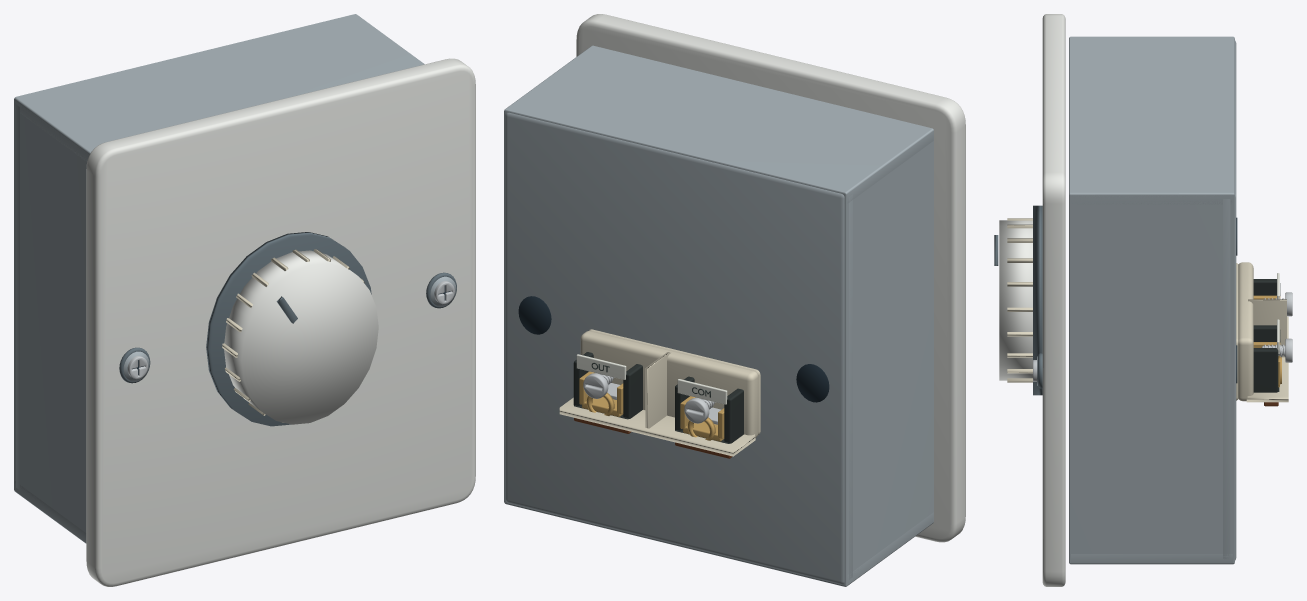
Rendered from dimmer_rotary.glb.
The picture shows the model from 3 angles, left to right: view 1: azimuth 30°, elevation 25°; view 2: azimuth 150°, elevation 25°; view 3: azimuth 270°, elevation 25°; orthographic projection. The views are drawn at different scales.
Visible parts, largest first — view 1: part:cover, part:body · Original 2a8198d3, part:actuator, motion:rotary · Original 5a609f27, detail:faceplate-fixing · Detail zinc plated fixing, part:cover · Original 0905ee26; view 2: part:body · Original 2a8198d3, part:cover, part:terminals · Original 5a609f27, part:body · Original a463fd81, detail:terminal-clamp:OUT · Detail moulded engineering polym, detail:terminal-clamp:COM · Detail moulded engineering polym, detail:terminal-clamp:OUT · Detail machined brass, detail:terminal-clamp:COM · Detail machined brass, Moulded terminal legend pad, Moulded terminal legend pad.001, detail:terminal-clamp:COM · Detail zinc plated fixing, detail:terminal-clamp:OUT · Detail zinc plated fixing; view 3: part:body · Original 2a8198d3, part:cover, part:actuator, part:terminals · Original 5a609f27, detail:terminal-clamp:OUT · Detail moulded engineering polym, motion:rotary · Original 5a609f27, detail:terminal-clamp:COM · Detail moulded engineering polym.
Part boxes in pixels (<box>): part:cover: <box>86,58,475,586</box>; part:body · Original 2a8198d3: <box>14,14,424,543</box>; part:actuator: <box>206,232,378,426</box>; motion:rotary · Original 5a609f27: <box>222,249,364,422</box>; detail:faceplate-fixing · Detail zinc plated fixing: <box>127,281,454,378</box>; part:cover · Original 0905ee26: <box>119,272,456,383</box>; part:body · Original 2a8198d3: <box>504,45,933,586</box>; part:cover: <box>576,14,965,542</box>; part:terminals · Original 5a609f27: <box>559,329,760,456</box>; part:body · Original a463fd81: <box>518,296,829,402</box>; detail:terminal-clamp:OUT · Detail moulded engineering polym: <box>573,352,642,419</box>; detail:terminal-clamp:COM · Detail moulded engineering polym: <box>675,376,743,443</box>; detail:terminal-clamp:OUT · Detail machined brass: <box>579,371,623,416</box>; detail:terminal-clamp:COM · Detail machined brass: <box>680,396,724,441</box>; Moulded terminal legend pad: <box>677,379,727,404</box>; Moulded terminal legend pad.001: <box>576,354,626,379</box>; detail:terminal-clamp:COM · Detail zinc plated fixing: <box>684,397,721,424</box>; detail:terminal-clamp:OUT · Detail zinc plated fixing: <box>583,373,620,399</box>; part:body · Original 2a8198d3: <box>1069,36,1236,564</box>; part:cover: <box>1042,14,1065,586</box>; part:actuator: <box>999,205,1042,395</box>; part:terminals · Original 5a609f27: <box>1236,262,1288,402</box>; detail:terminal-clamp:OUT · Detail moulded engineering polym: <box>1253,325,1279,392</box>; motion:rotary · Original 5a609f27: <box>1007,218,1032,382</box>; detail:terminal-clamp:COM · Detail moulded engineering polym: <box>1253,279,1276,295</box>.
Bounding box in the file's own units: 0.8918 × 0.9813 × 0.6439.
